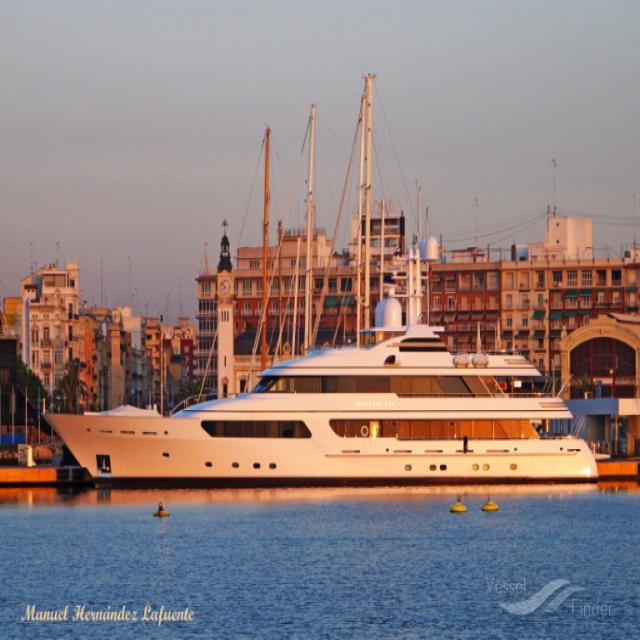Yacht: (44, 236, 598, 484)
